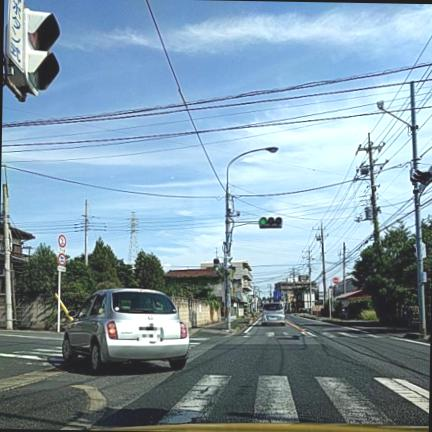Road: (0, 316, 429, 429)
